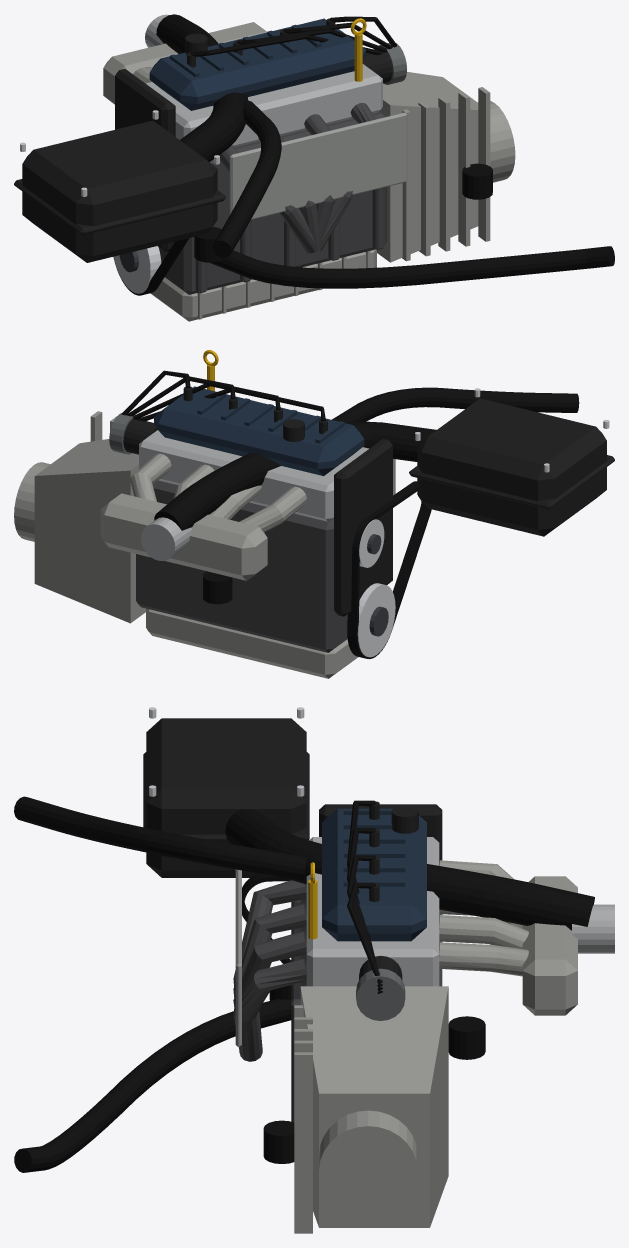
File: motor_1_6.glb
The picture shows the model from 3 angles, top to bottom: view 1: azimuth 30°, elevation 25°; view 2: azimuth 150°, elevation 25°; view 3: azimuth 270°, elevation 25°; orthographic projection. The views are drawn at different scales.
Visible parts, largest first — view 1: motor_1_6_plastico_preto, motor_1_6_aluminio_fundido, motor_1_6_borracha, motor_1_6_ferro_fundido, motor_1_6_aco_galv, motor_1_6_tinta_motor, motor_1_6_aluminio, motor_1_6_fio_preto, motor_1_6_aco, motor_1_6_amarelo_tampa, motor_1_6_plastico_cinza; view 2: motor_1_6_aluminio_fundido, motor_1_6_plastico_preto, motor_1_6_ferro_fundido, motor_1_6_borracha, motor_1_6_tinta_motor, motor_1_6_aluminio, motor_1_6_aco, motor_1_6_fio_preto, motor_1_6_aco_escuro, motor_1_6_plastico_cinza; view 3: motor_1_6_aluminio_fundido, motor_1_6_borracha, motor_1_6_plastico_preto, motor_1_6_tinta_motor, motor_1_6_ferro_fundido, motor_1_6_aluminio, motor_1_6_fio_preto, motor_1_6_plastico_cinza, motor_1_6_aco_galv.
Part boxes in pixels (bbox=[...]): motor_1_6_plastico_preto: bbox=[14, 18, 392, 262]; motor_1_6_aluminio_fundido: bbox=[103, 22, 515, 321]; motor_1_6_borracha: bbox=[113, 14, 614, 295]; motor_1_6_ferro_fundido: bbox=[158, 103, 387, 294]; motor_1_6_aco_galv: bbox=[229, 112, 407, 219]; motor_1_6_tinta_motor: bbox=[149, 18, 365, 110]; motor_1_6_aluminio: bbox=[145, 14, 382, 147]; motor_1_6_fio_preto: bbox=[190, 16, 396, 56]; motor_1_6_aco: bbox=[20, 110, 219, 293]; motor_1_6_amarelo_tampa: bbox=[350, 18, 366, 81]; motor_1_6_plastico_cinza: bbox=[379, 43, 406, 84]; motor_1_6_aluminio_fundido: bbox=[14, 411, 357, 678]; motor_1_6_plastico_preto: bbox=[123, 387, 614, 616]; motor_1_6_ferro_fundido: bbox=[136, 480, 347, 652]; motor_1_6_borracha: bbox=[154, 387, 579, 659]; motor_1_6_tinta_motor: bbox=[154, 386, 364, 476]; motor_1_6_aluminio: bbox=[139, 430, 368, 560]; motor_1_6_aco: bbox=[357, 388, 609, 657]; motor_1_6_fio_preto: bbox=[121, 370, 325, 421]; motor_1_6_aco_escuro: bbox=[367, 534, 388, 636]; motor_1_6_plastico_cinza: bbox=[109, 413, 133, 454]; motor_1_6_aluminio_fundido: bbox=[294, 860, 577, 1233]; motor_1_6_borracha: bbox=[14, 796, 594, 1172]; motor_1_6_plastico_preto: bbox=[143, 718, 442, 980]; motor_1_6_tinta_motor: bbox=[322, 808, 426, 941]; motor_1_6_ferro_fundido: bbox=[233, 880, 442, 1122]; motor_1_6_aluminio: bbox=[306, 837, 614, 986]; motor_1_6_fio_preto: bbox=[347, 800, 382, 993]; motor_1_6_plastico_cinza: bbox=[356, 968, 405, 1020]; motor_1_6_aco_galv: bbox=[235, 869, 241, 1047].
Bounding box in the file's own units: 1.14 × 0.578 × 0.9747.
